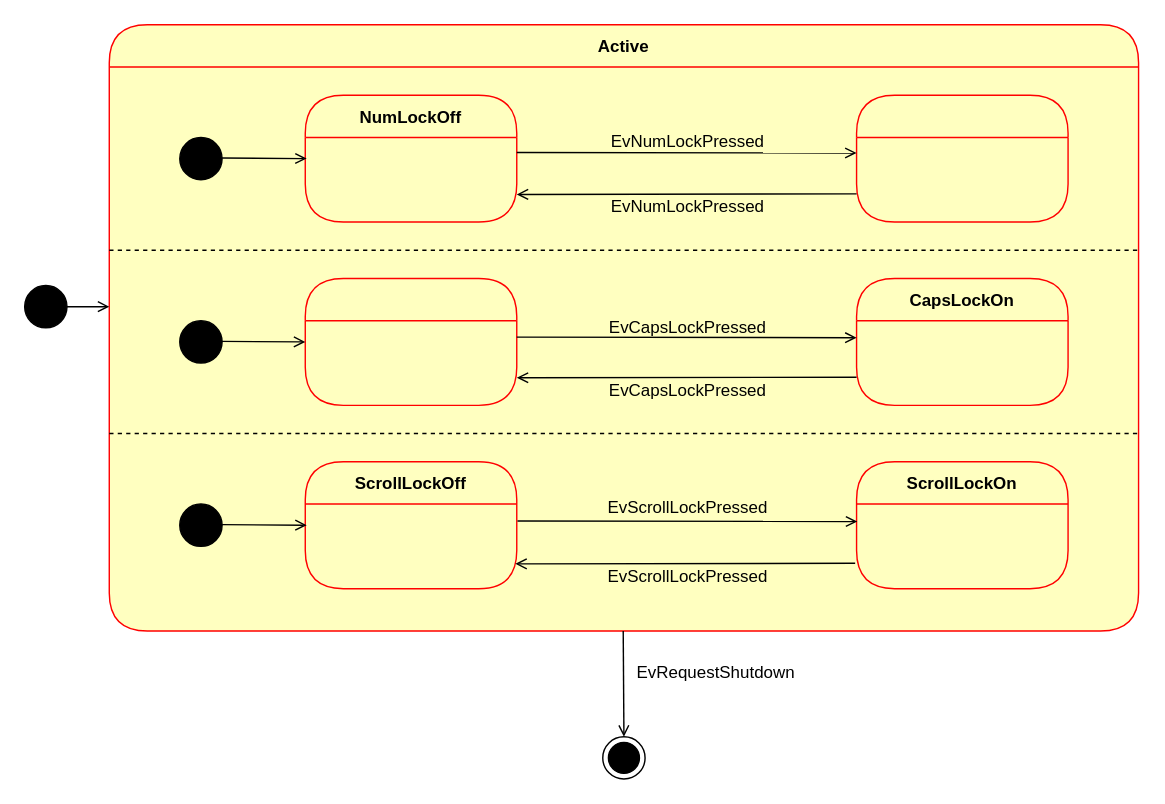
This 1165x804 diagram has some shape labels left out. Each missing label, with the centre of its shape:
CapsLockOff: point (410, 341)
NumLockOn: point (961, 158)
